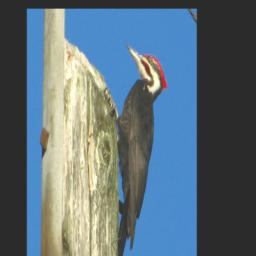Woodpecker: (107, 45, 171, 256)
